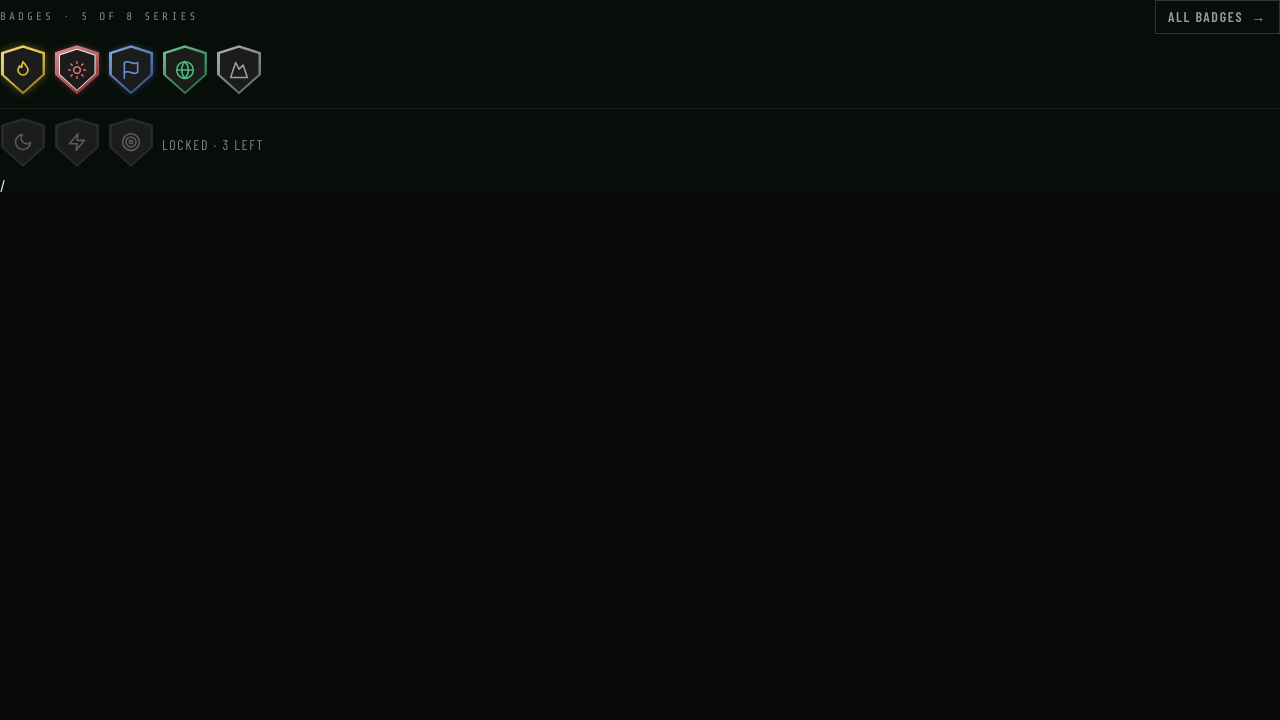
Test case: BadgeSummary — popover per emblem (F10.4) › ett tryck på ett intjänat emblem öppnar nivån, "On display" och held-by
Click the button named "Legendary Streak Keeper" at (23, 70), box [0,44,46,95]
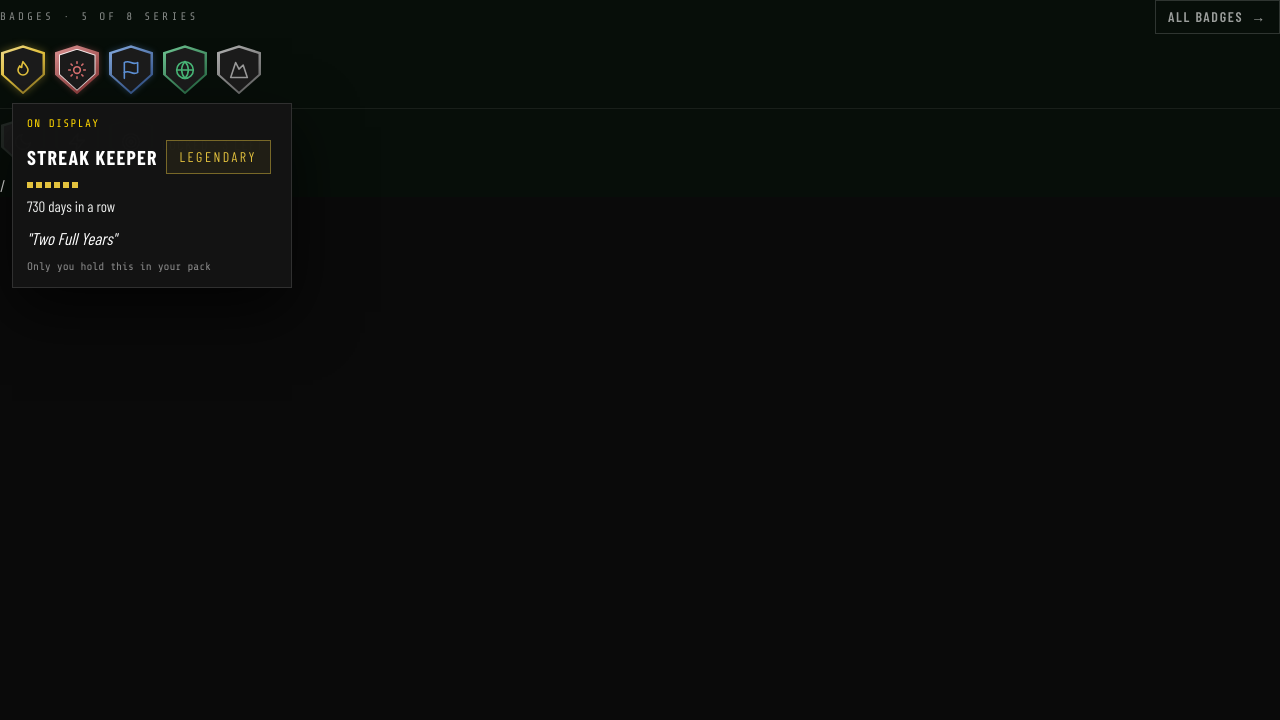
Result: the text "On display" is shown at [27,116,100,132]
Result: the text "Legendary" is shown at [166,140,271,174]
Result: the text "Only you hold this in your pack" is shown at [27,259,211,274]
